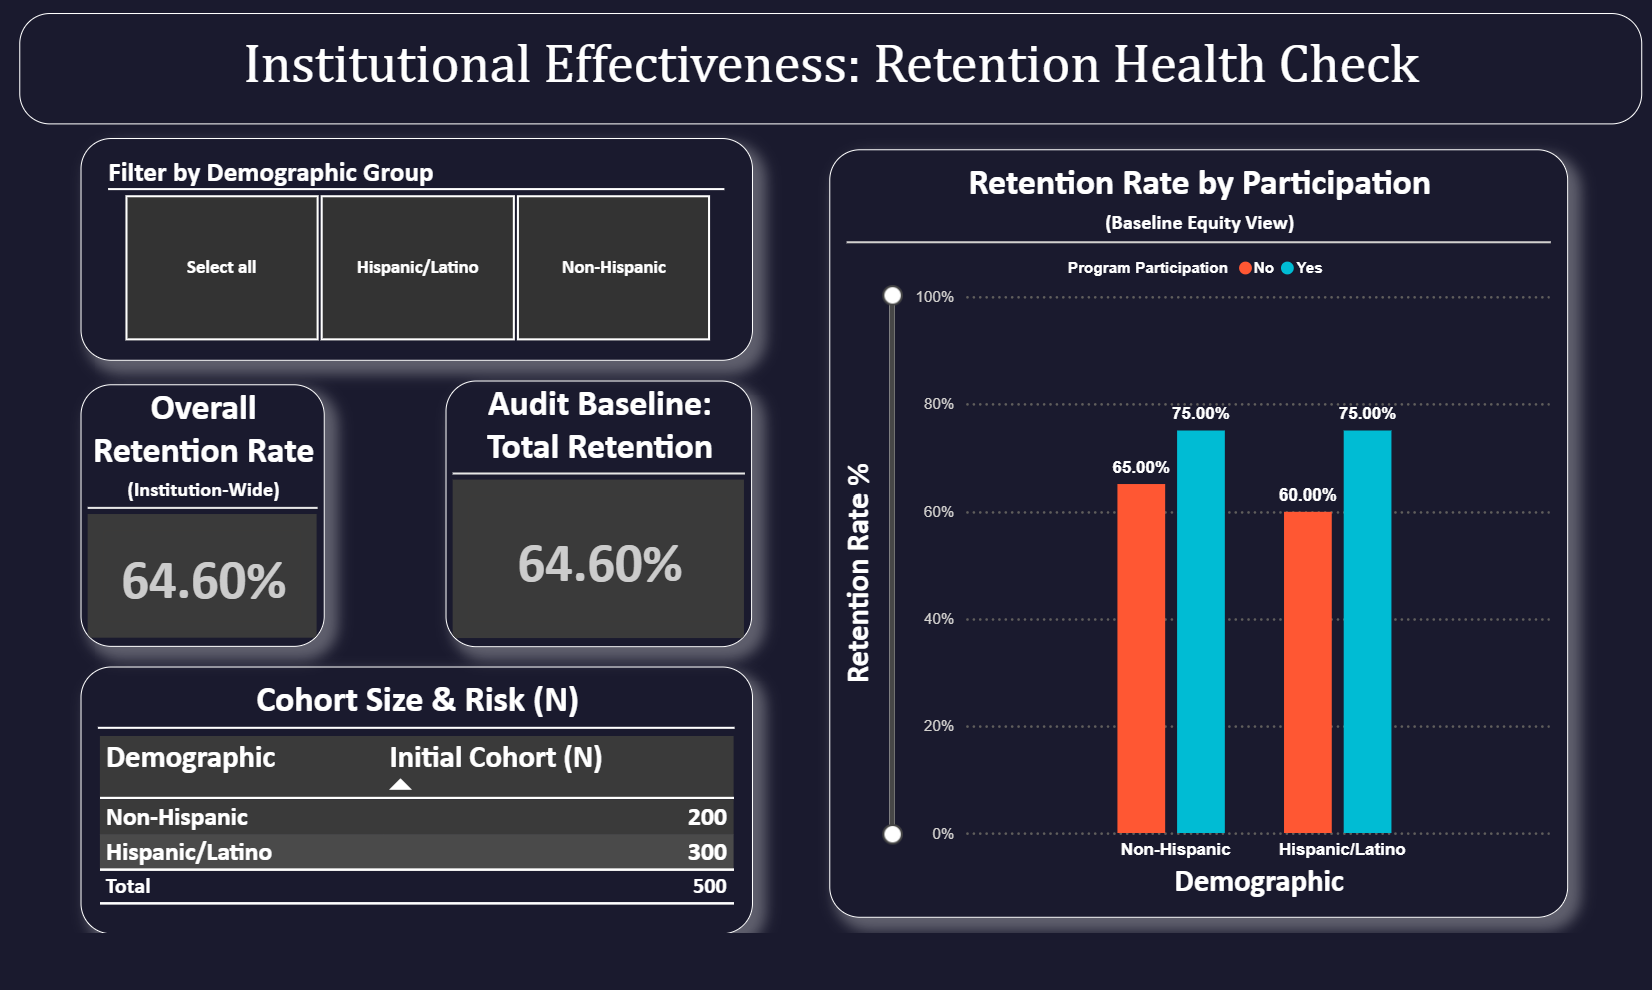

What the dashboard file says about the page in this screenshot:
{"tool":"powerbi","page":{"name":"Equity & Program Evaluation","canvas":[1280,720],"ordinal":0},"visuals":[{"type":"textbox","box":[4.9,0,1270.5,86.8],"z":0},{"type":"cardVisual","title":"Overall Retention Rate","fields":{"Data":["public ie_program_evaluation_metrics.Retention Rate %"]},"box":[52.4,290.9,191.1,204.7],"z":1000},{"type":"cardVisual","title":"Audit Baseline: Total Retention","fields":{"Data":["public ie_program_evaluation_metrics.Retention Rate %"]},"box":[338.3,287.5,240.2,208],"z":2000},{"type":"tableEx","title":"Cohort Size & Risk (N)","fields":{"Values":["public ie_program_evaluation_metrics.demographic_group","public ie_program_evaluation_metrics.Initial Cohort (N)"]},"box":[52.4,510.8,526,209.7],"z":3000},{"type":"clusteredColumnChart","title":"Retention Rate by Participation","fields":{"Category":["public ie_program_evaluation_metrics.demographic_group"],"Y":["public ie_program_evaluation_metrics.Retention Rate %"],"Series":["public ie_program_evaluation_metrics.program_participated"]},"box":[639.3,106.6,578.4,600.4],"z":4000},{"type":"slicer","fields":{"Values":["public ie_program_evaluation_metrics.demographic_group"]},"box":[52.4,98.1,526,174.2],"z":5000}]}

Visuals, with their boxes on the page's 1280x720 design canvas (x1, y1, x2, y2). These are canvas units, not pixel positions in the 1652x990 screenshot, which may show the page scaled, cropped or inside an application window:
textbox: region(5, 0, 1275, 87)
"Overall Retention Rate" cardVisual: region(52, 291, 244, 496)
"Audit Baseline: Total Retention" cardVisual: region(338, 288, 578, 496)
"Cohort Size & Risk (N)" tableEx: region(52, 511, 578, 720)
"Retention Rate by Participation" clusteredColumnChart: region(639, 107, 1218, 707)
slicer - public ie_program_evaluation_metrics.demographic_group: region(52, 98, 578, 272)
